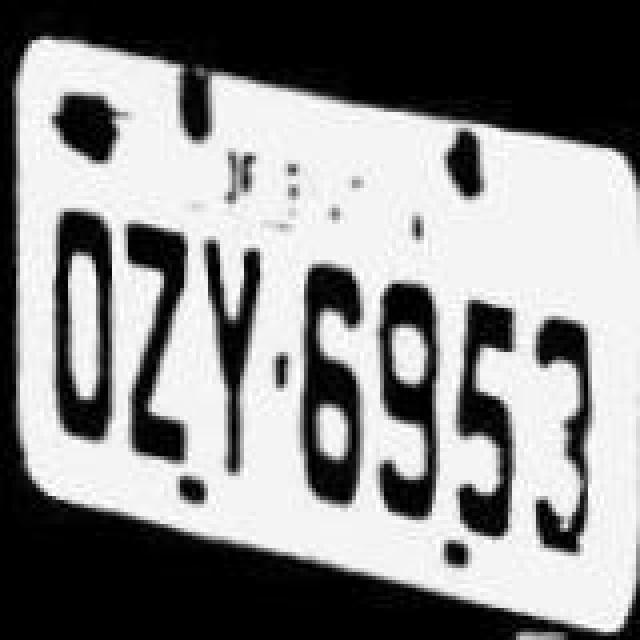3: (508, 312, 596, 552)
5: (438, 296, 530, 544)
6: (286, 254, 374, 502)
9: (364, 266, 448, 518)
O: (30, 202, 122, 446)
Y: (194, 226, 274, 482)
Z: (110, 216, 194, 468)
